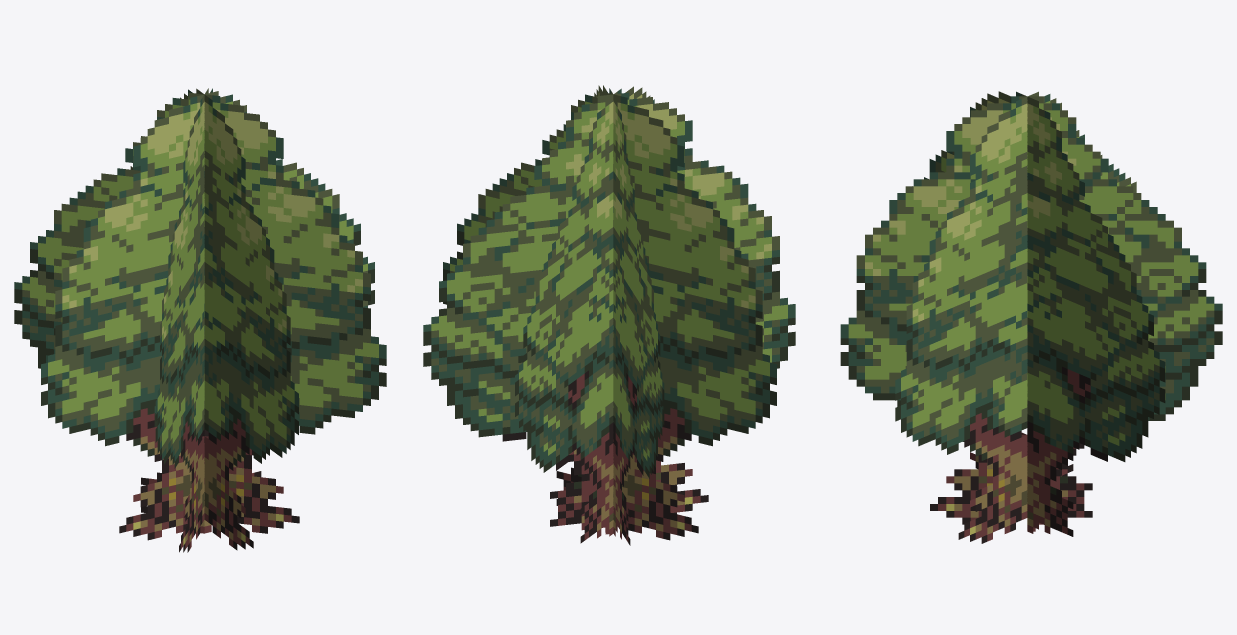
File: tree1.glb
The picture shows the model from 3 angles, left to right: view 1: azimuth 30°, elevation 25°; view 2: azimuth 150°, elevation 25°; view 3: azimuth 270°, elevation 25°; orthographic projection.
Visible parts, largest first — view 1: Cube; view 2: Cube; view 3: Cube.
Part boxes in pixels (x1,y1,x2,y2): Cube: (14,88,386,552); Cube: (423,85,795,545); Cube: (840,91,1222,543).
Size of the model in its own units: 4 by 5 by 4.
Materials: 1 (1 with a texture image).
